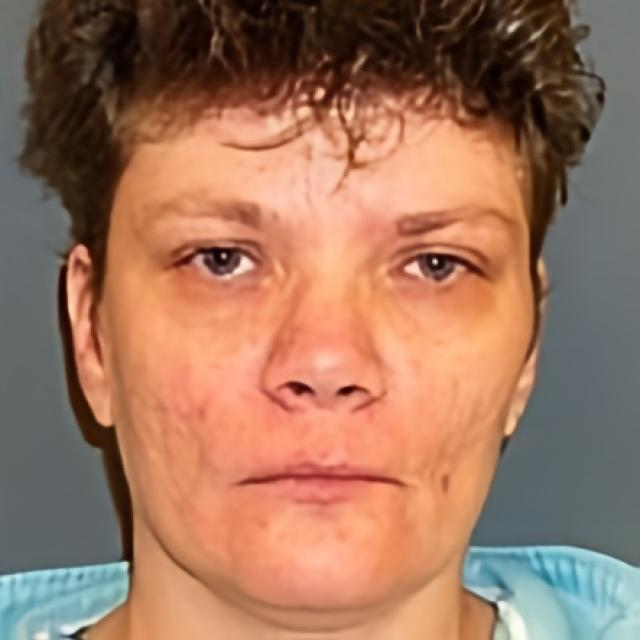anger: (112, 64, 524, 616)
